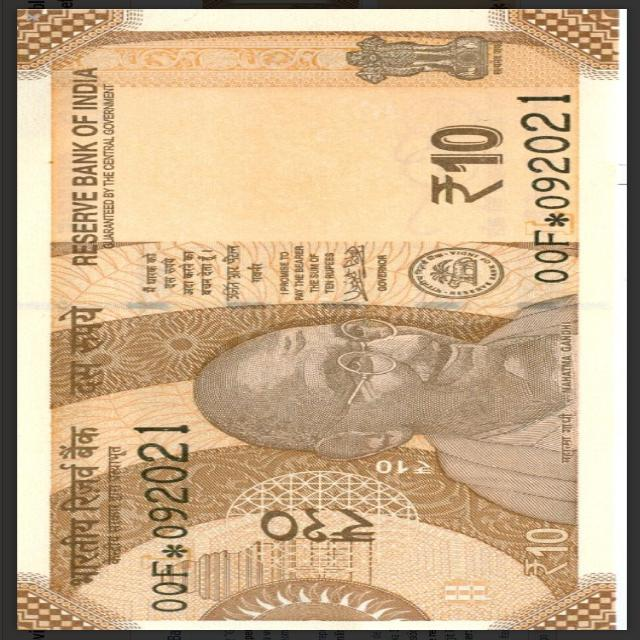10IndianRupees: (18, 10, 624, 626)
